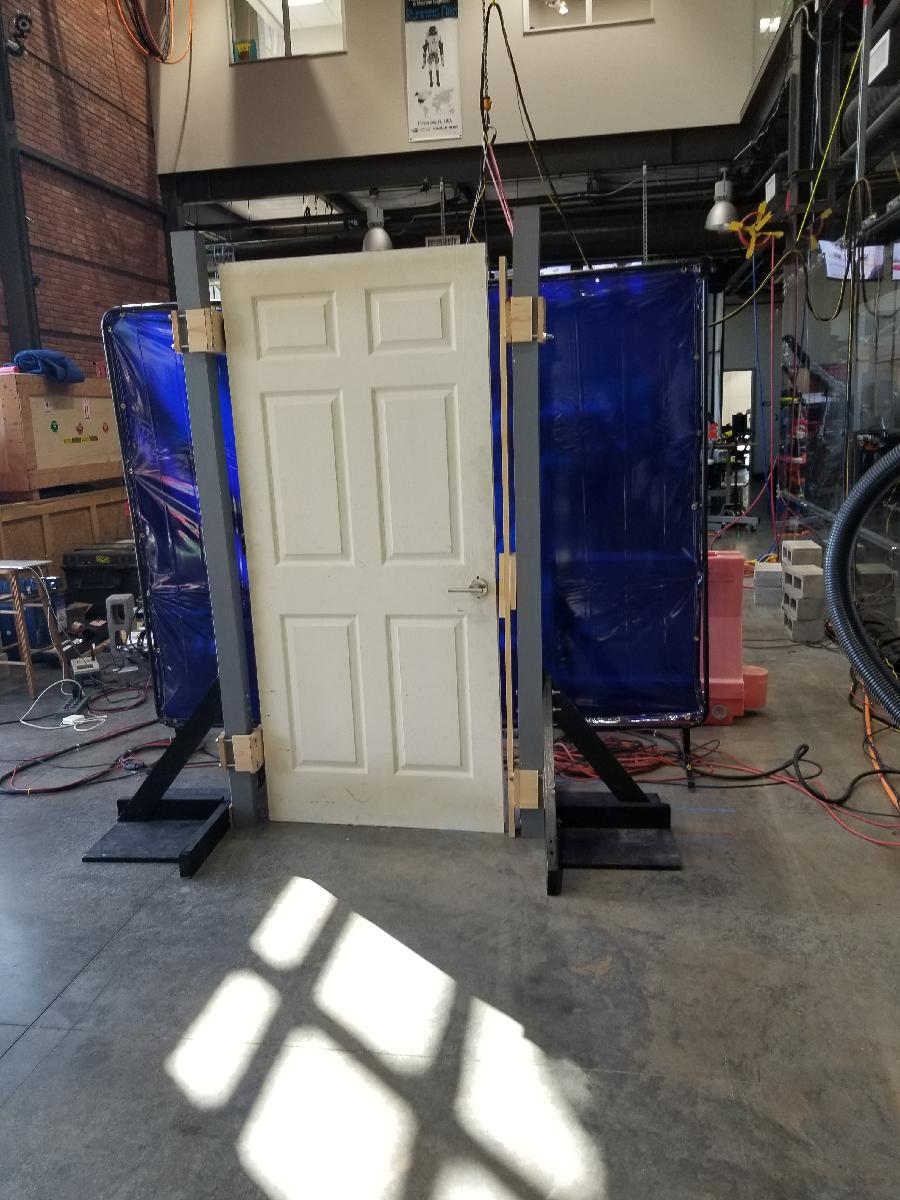door: (213, 242, 510, 844)
doorHandle: (443, 572, 497, 609)
